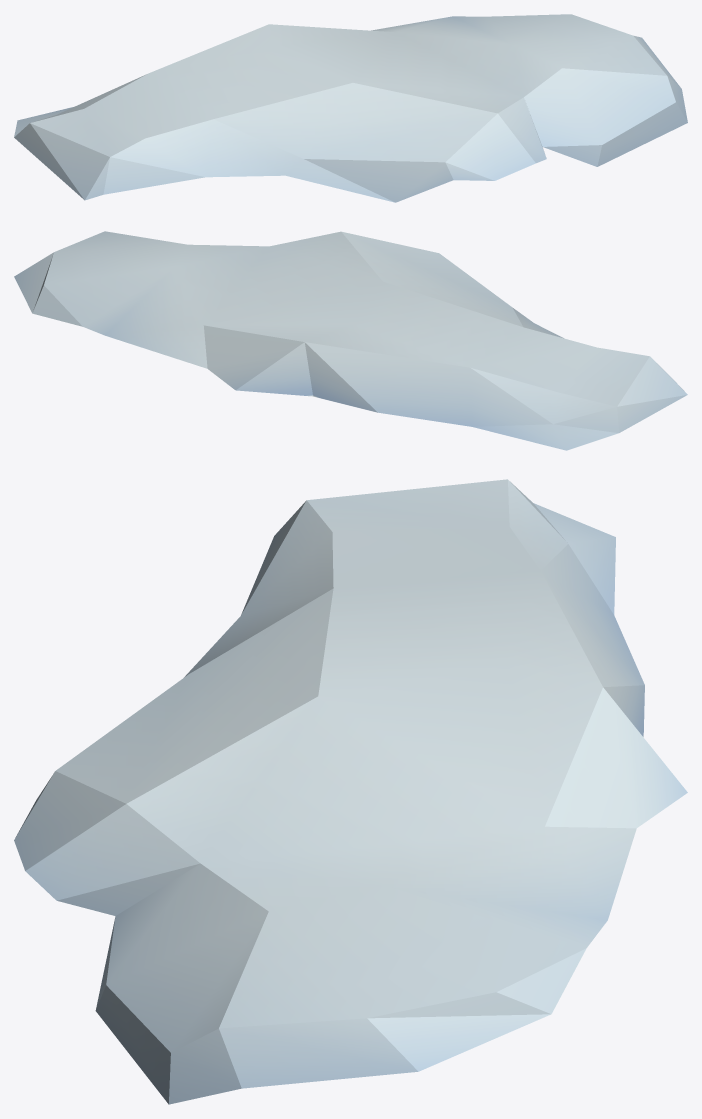
File: Terrain_Stage2_Snow_3.fbx
3 renders of one model, top to bottom at view 1: azimuth 30°, elevation 25°; view 2: azimuth 150°, elevation 25°; view 3: azimuth 270°, elevation 25°, orthographic. The views are drawn at different scales.
Visible parts, largest first — view 1: terrain_snow_421_01_LOD0; view 2: terrain_snow_421_01_LOD0; view 3: terrain_snow_421_01_LOD0.
Part boxes in pixels (x1,y1,x2,y2): terrain_snow_421_01_LOD0: [14, 14, 687, 202]; terrain_snow_421_01_LOD0: [14, 231, 687, 450]; terrain_snow_421_01_LOD0: [14, 479, 687, 1104].
Size of the model in its own units: 1432 by 204 by 773.
1 material, 1 textured.
